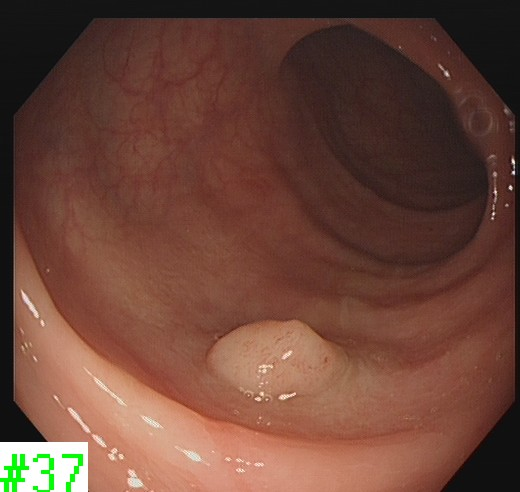adenoma: (203, 315, 353, 400)
